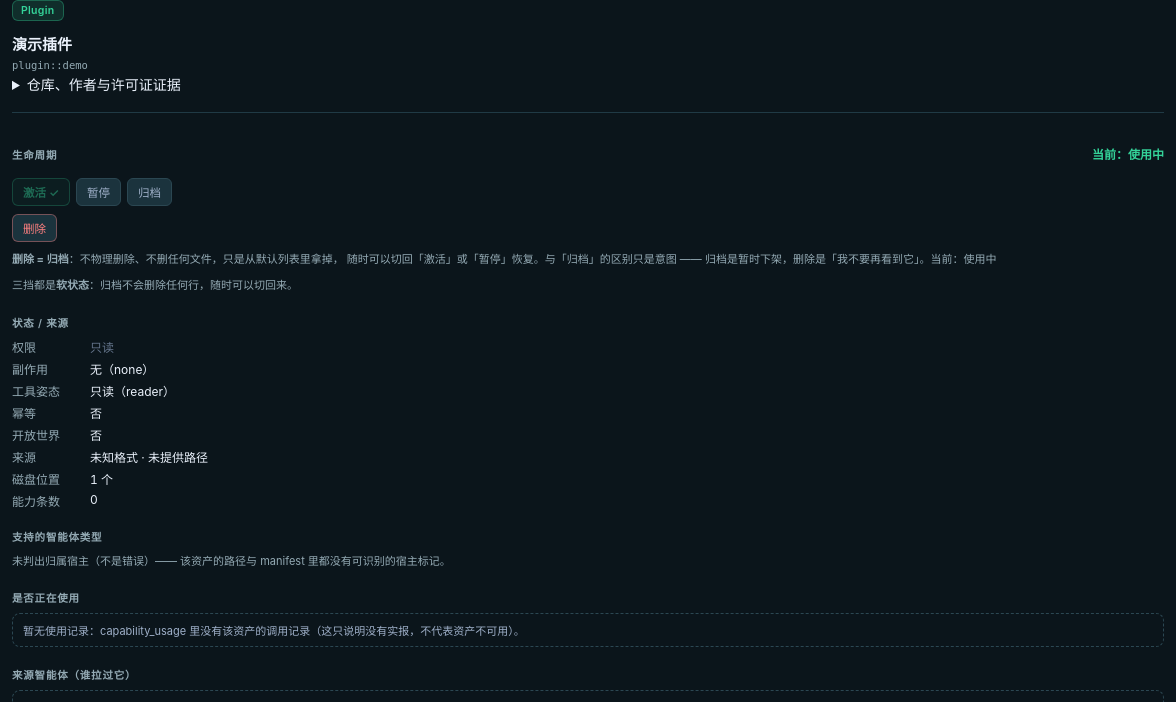
Test: DetailPane · 生命周期里的「删除」 › 二次确认后调 set_asset_lifecycle(id, 'archived')，并告知「已从默认列表移除」
Click the button with class "delete" at (34, 228), box [12,214,57,242]
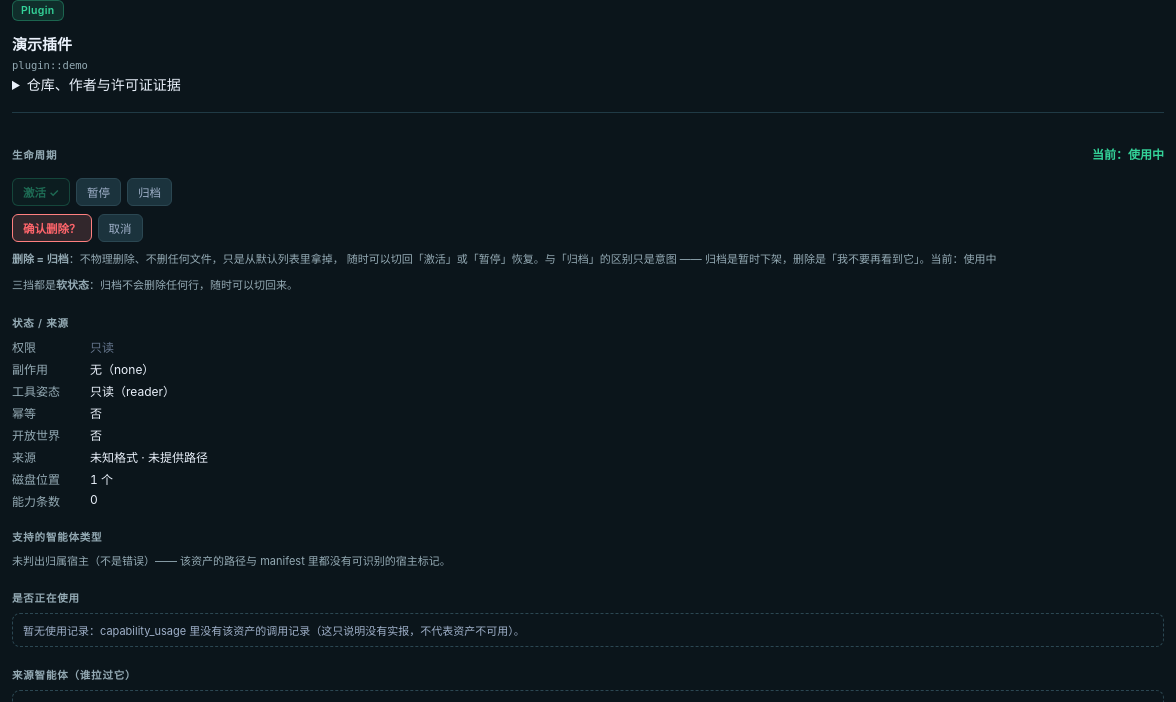
Click the button with class "delete" at (52, 228), box [12,214,92,242]
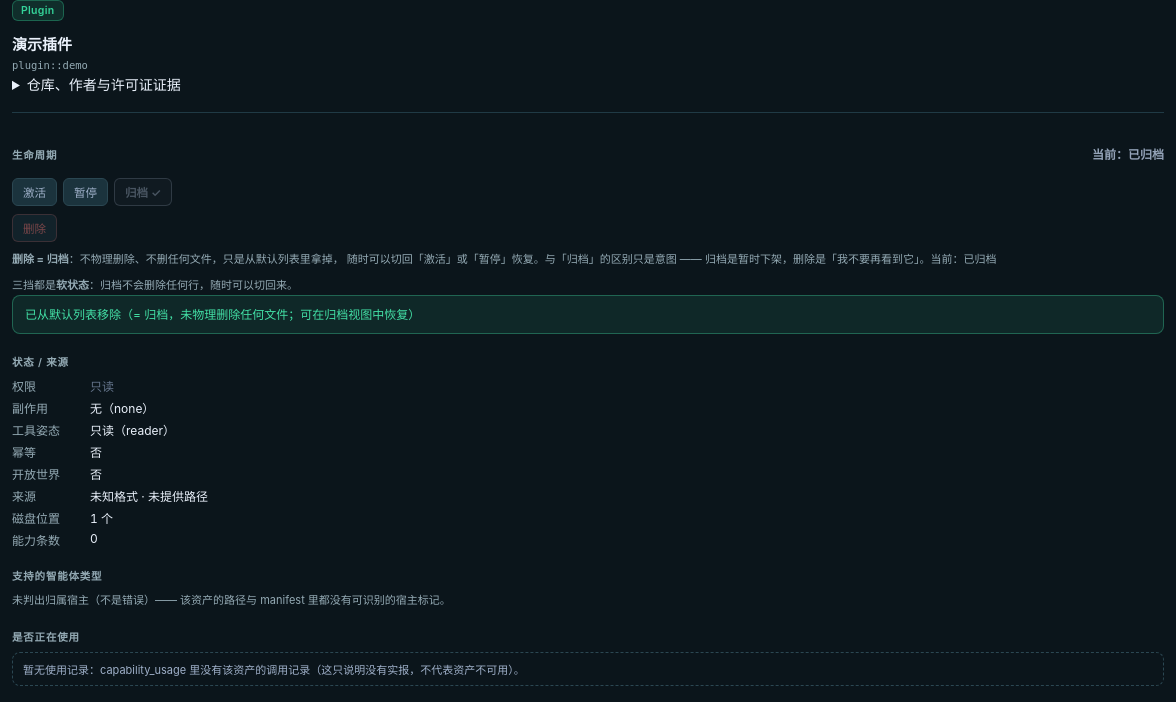
Now the text "已从默认列表移除（= 归档，未物理删除任何文件；可在归档视图中恢复）" is shown, box [12,295,1164,334]
